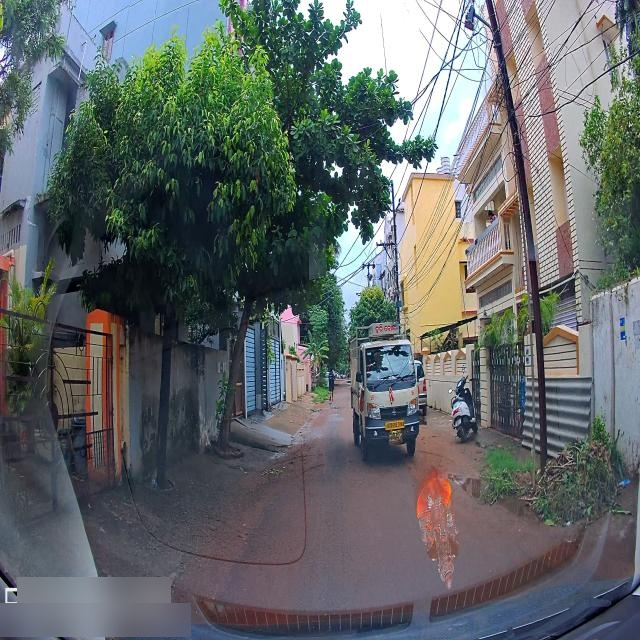pothole: (330, 405, 350, 410), (321, 413, 335, 419)
